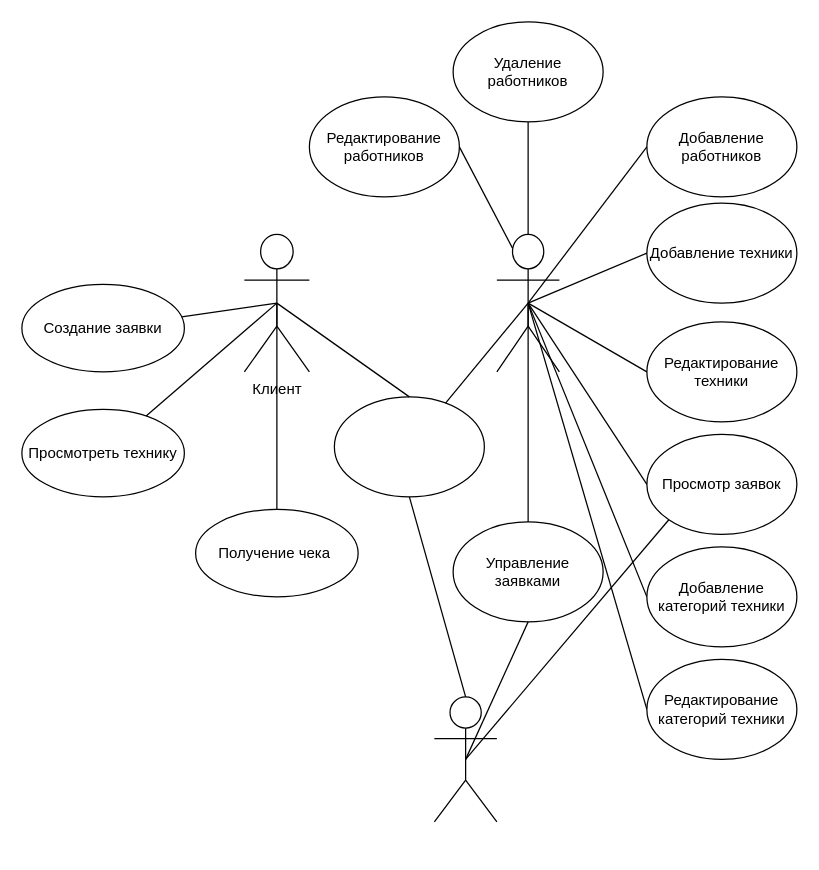
Image size: 819x870. Some labels were removed from this diagram. The shapes that lost their labels are listed below. From the top down, each one's centre as x and y in pixels, then its label:
pixel 527 302: Администратор
pixel 408 446: Получение информации
pixel 465 759: Работник
